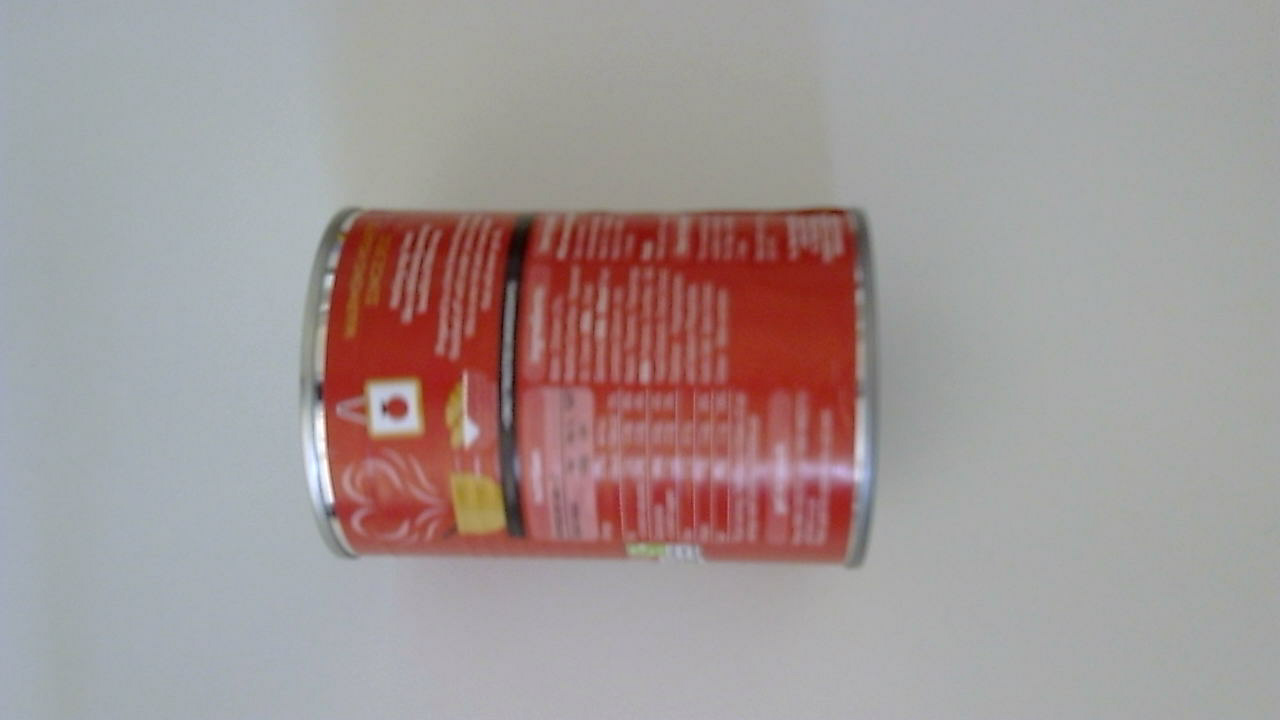Metal Tin: (294, 208, 892, 578)
